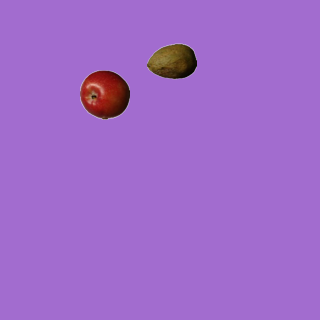Apple Braeburn: (79, 69, 129, 119)
Papaya: (146, 36, 196, 86)
